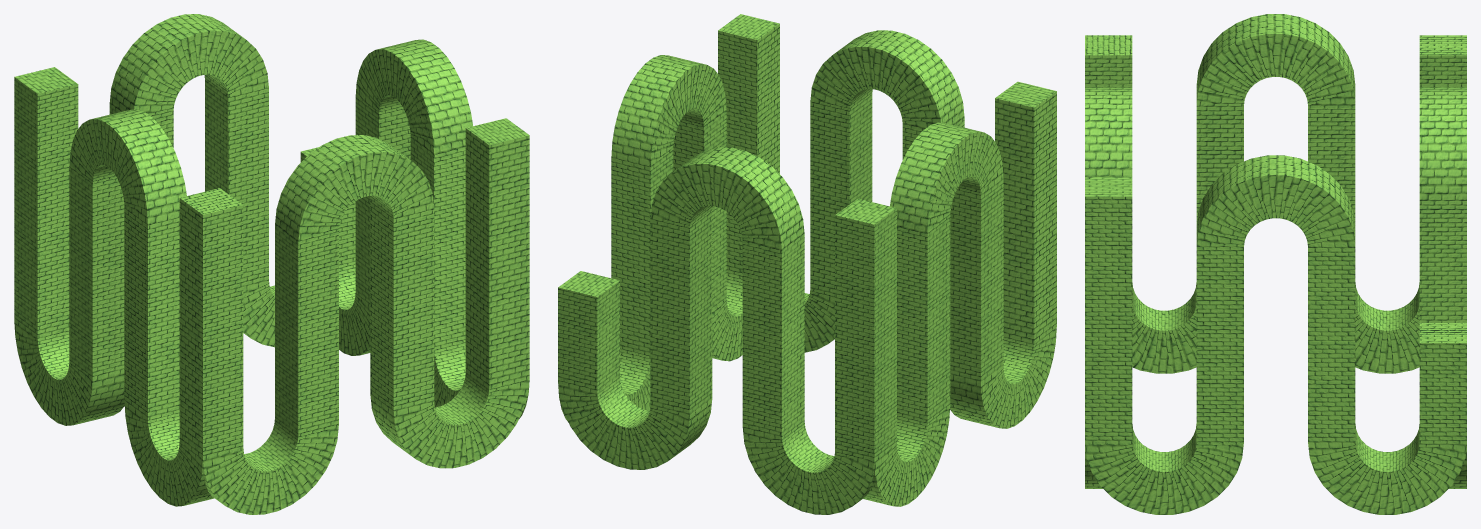
The model's file is Arches_Rm_Bricks.fbx.
3 views of the same model, side by side, from view 1: azimuth 30°, elevation 25°; view 2: azimuth 150°, elevation 25°; view 3: azimuth 270°, elevation 25° (orthographic). The views are drawn at different scales.
Parts seen in each view (by area): view 1: P_Arches_Rm_Bricks; view 2: P_Arches_Rm_Bricks; view 3: P_Arches_Rm_Bricks.
Part boxes in pixels (left/top/right/bottom): P_Arches_Rm_Bricks: left=14, top=14, right=529, bottom=514; P_Arches_Rm_Bricks: left=558, top=14, right=1056, bottom=514; P_Arches_Rm_Bricks: left=1085, top=14, right=1466, bottom=514.
Bounding box in the file's own units: 20.69 × 20.3 × 20.68.
